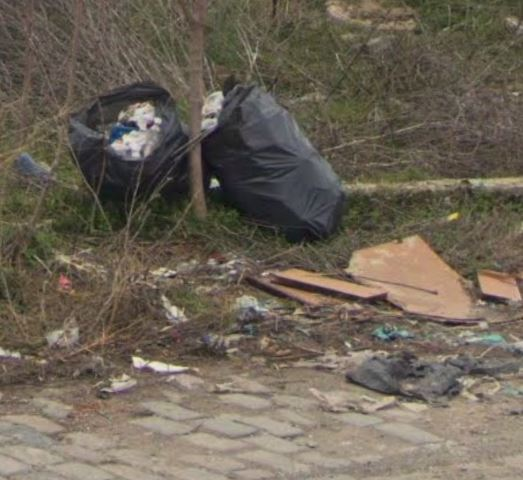trash: (247, 217, 523, 337), (189, 81, 361, 241), (52, 65, 199, 251), (345, 322, 523, 417), (98, 353, 191, 397)
